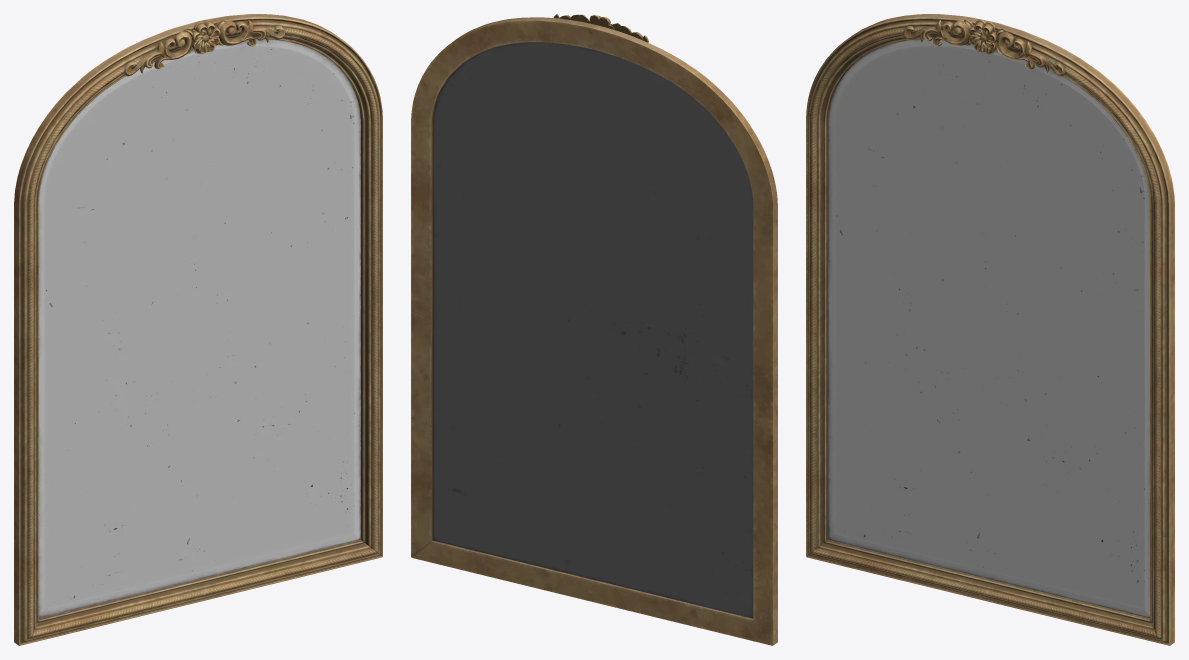
The model's file is ornate_mirror_01.glb.
3 views of the same model, side by side, from view 1: azimuth 30°, elevation 25°; view 2: azimuth 150°, elevation 25°; view 3: azimuth 330°, elevation 25° (orthographic).
Visible parts, largest first — view 1: ornate_mirror_01; view 2: ornate_mirror_01; view 3: ornate_mirror_01.
Boxes of the visible parts, <box> form: ornate_mirror_01: <box>14,14,382,645</box>; ornate_mirror_01: <box>411,14,777,645</box>; ornate_mirror_01: <box>806,14,1174,645</box>.
Bounding box in the file's own units: 0.4865 × 0.7442 × 0.026.
1 material, 1 textured.
